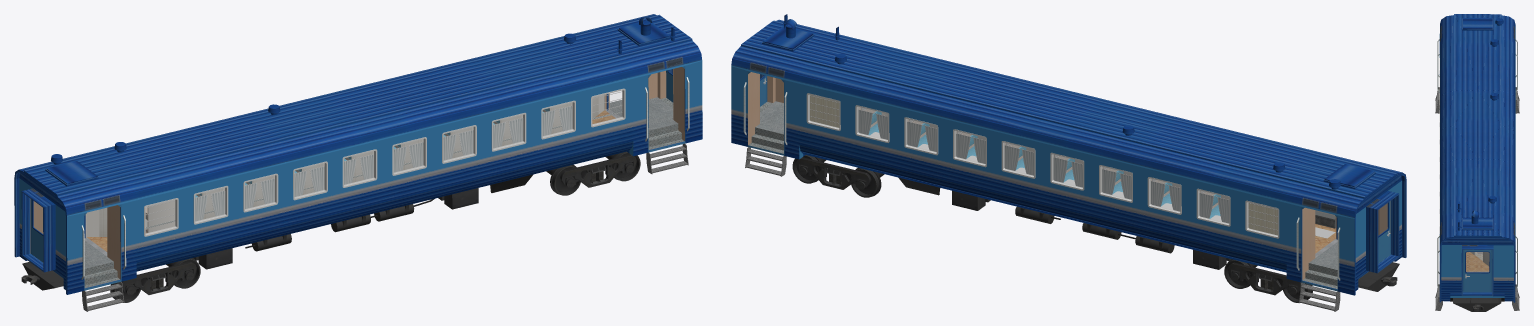
Rendered from Train01aCupe_1Interior.FBX.
The picture shows the model from 3 angles, left to right: view 1: azimuth 30°, elevation 25°; view 2: azimuth 150°, elevation 25°; view 3: azimuth 270°, elevation 25°; orthographic projection. The views are drawn at different scales.
Visible parts, largest first — view 1: Train01aCupe_1Interior, Train01aCupe_Window, Train01aCupe_1Wheels, Train01aCupe_Curtain02a, Train01aCupe_Windows, Train01aCupe_Stairs, Train01aCupe_Wood01a1, Train01aCupe_1Interiordetail, Train01aCupe_1Wheel03, Train01aCupe_Chrome; view 2: Train01aCupe_1Interior, Train01aCupe_Window, Train01aCupe_1Wheels, Train01aCupe_Curtain02a, Train01aCupe_Windows, Train01aCupe_Curtain05h, Train01aCupe_Stairs, Train01aCupe_BenchFabric02, Train01aCupe_1Interiordetail, Train01aCupe_1Wheel03, Train01aCupe_Chrome, Train01aCupe_Wood01a; view 3: Train01aCupe_1Interior, Train01aCupe_1Wheels, Train01aCupe_Stairs, Train01aCupe_Doorglass, Train01aCupe_1Interiordetail, Train01aCupe_Windows, Train01aCupe_Doorcupe10.
Part boxes in pixels (<box>): Train01aCupe_1Interior: <box>14,14,702,294</box>; Train01aCupe_Window: <box>146,91,622,233</box>; Train01aCupe_1Wheels: <box>21,154,636,294</box>; Train01aCupe_Curtain02a: <box>195,106,572,221</box>; Train01aCupe_Windows: <box>144,88,625,236</box>; Train01aCupe_Stairs: <box>82,143,688,311</box>; Train01aCupe_Wood01a1: <box>86,95,604,236</box>; Train01aCupe_1Interiordetail: <box>51,17,675,164</box>; Train01aCupe_1Wheel03: <box>546,164,581,195</box>; Train01aCupe_Chrome: <box>146,91,622,228</box>; Train01aCupe_1Interior: <box>731,19,1406,295</box>; Train01aCupe_Window: <box>810,95,1277,234</box>; Train01aCupe_1Wheels: <box>796,157,1399,295</box>; Train01aCupe_Curtain02a: <box>858,110,1229,223</box>; Train01aCupe_Windows: <box>806,93,1279,238</box>; Train01aCupe_Curtain05h: <box>810,95,1277,235</box>; Train01aCupe_Stairs: <box>745,147,1340,311</box>; Train01aCupe_BenchFabric02: <box>868,111,1220,218</box>; Train01aCupe_1Interiordetail: <box>783,14,1340,189</box>; Train01aCupe_1Wheel03: <box>850,167,884,197</box>; Train01aCupe_Chrome: <box>810,95,1277,230</box>; Train01aCupe_Wood01a: <box>858,107,1218,208</box>; Train01aCupe_1Interior: <box>1437,14,1517,302</box>; Train01aCupe_1Wheels: <box>1453,298,1501,311</box>; Train01aCupe_Stairs: <box>1435,87,1519,310</box>; Train01aCupe_Doorglass: <box>1466,252,1488,271</box>; Train01aCupe_1Interiordetail: <box>1457,18,1503,230</box>; Train01aCupe_Windows: <box>1439,58,1439,233</box>; Train01aCupe_Doorcupe10: <box>1483,252,1489,266</box>.
Size of the model in its own units: 1348 by 277 by 206.
